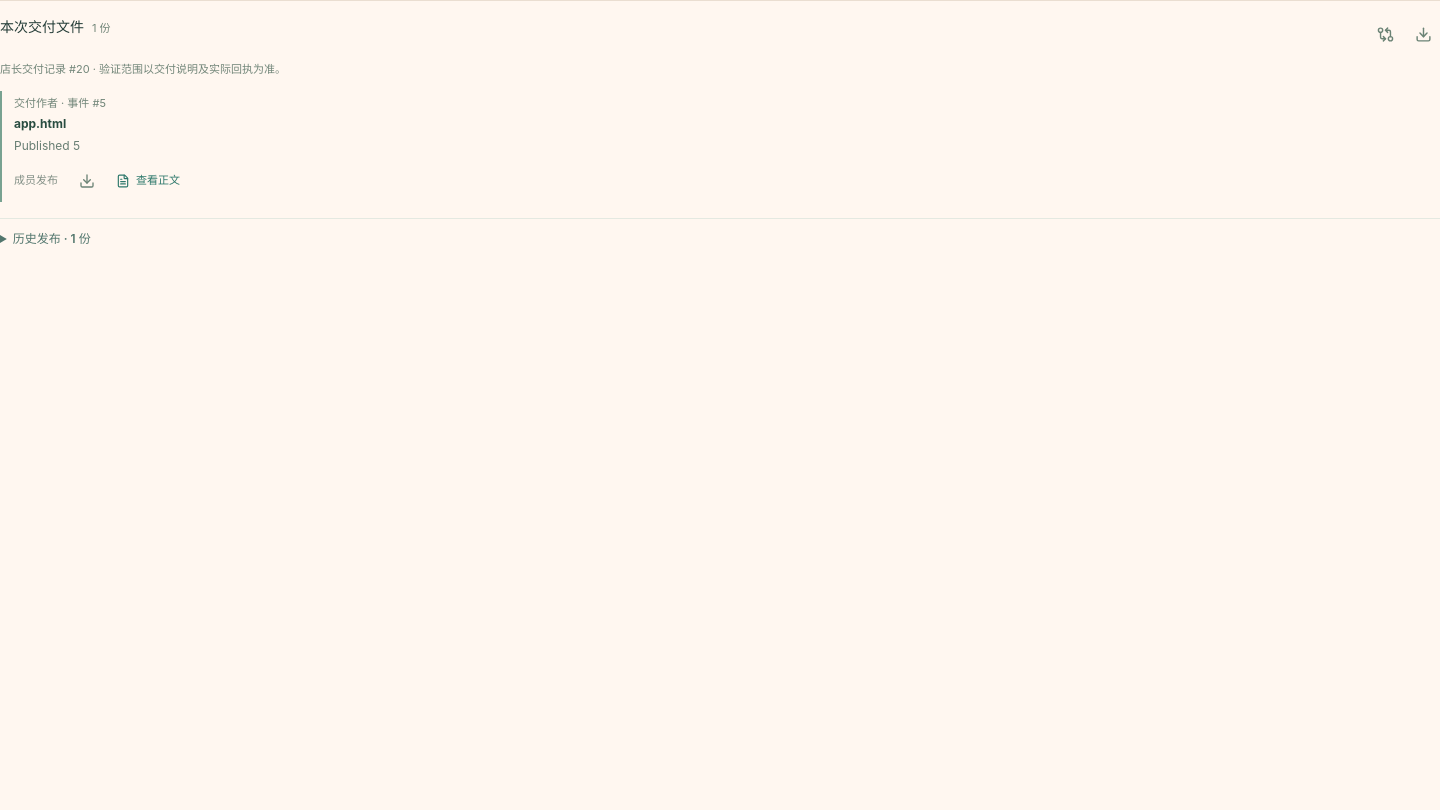
preserves raw text and displays line-ending notes: CRLF versus LF
Click the button named "对照已发布版本" at coordinates (1385, 34), box [1368,17,1402,51]
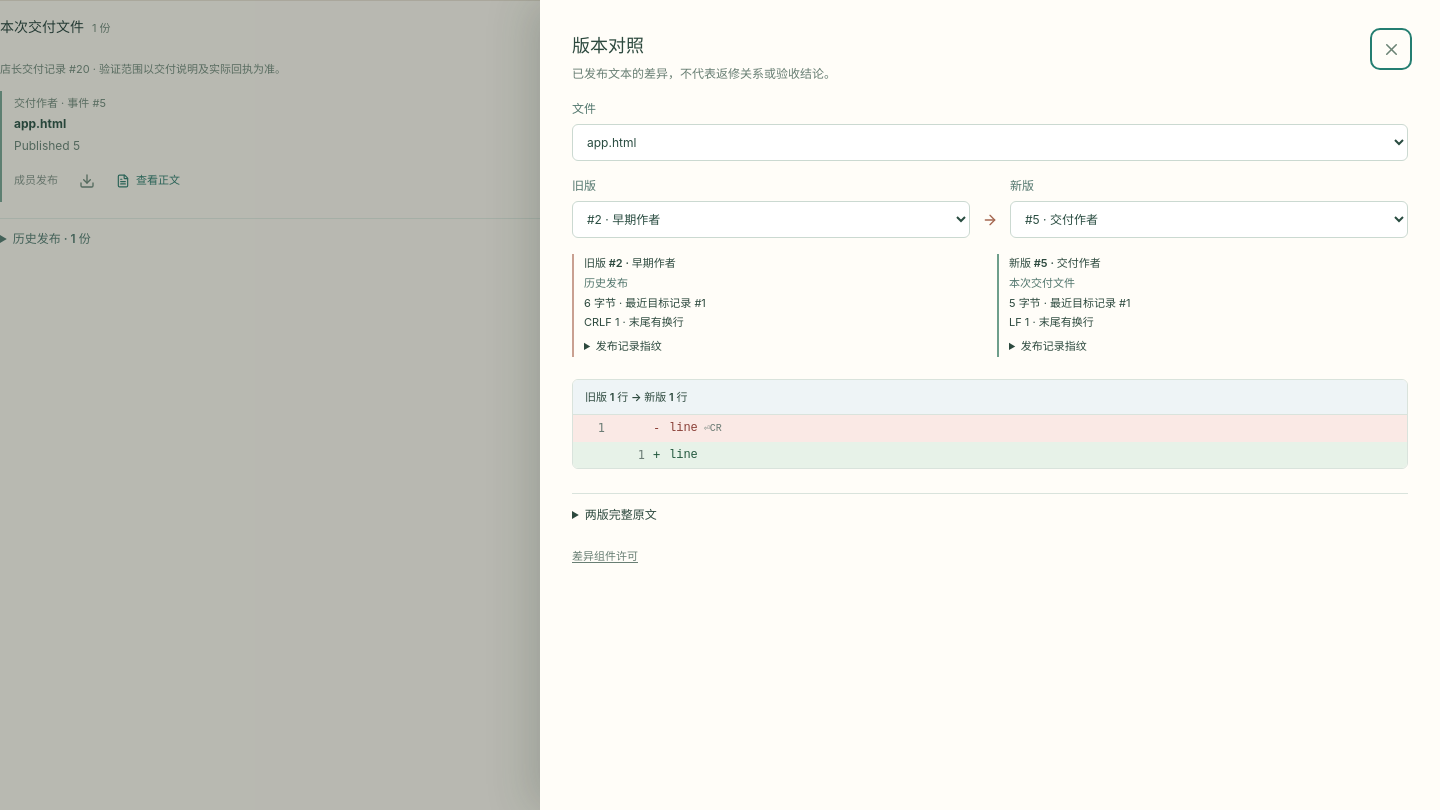
Now the text "CRLF 1 · 末尾有换行" is shown, box [584,315,684,329]
Now the text "LF 1 · 末尾有换行" is shown, box [1009,315,1094,329]
Now the text named "新增" is shown, box [653,448,660,462]
Click the heading "两版完整原文" at coordinates (621, 515), box [585,507,657,522]
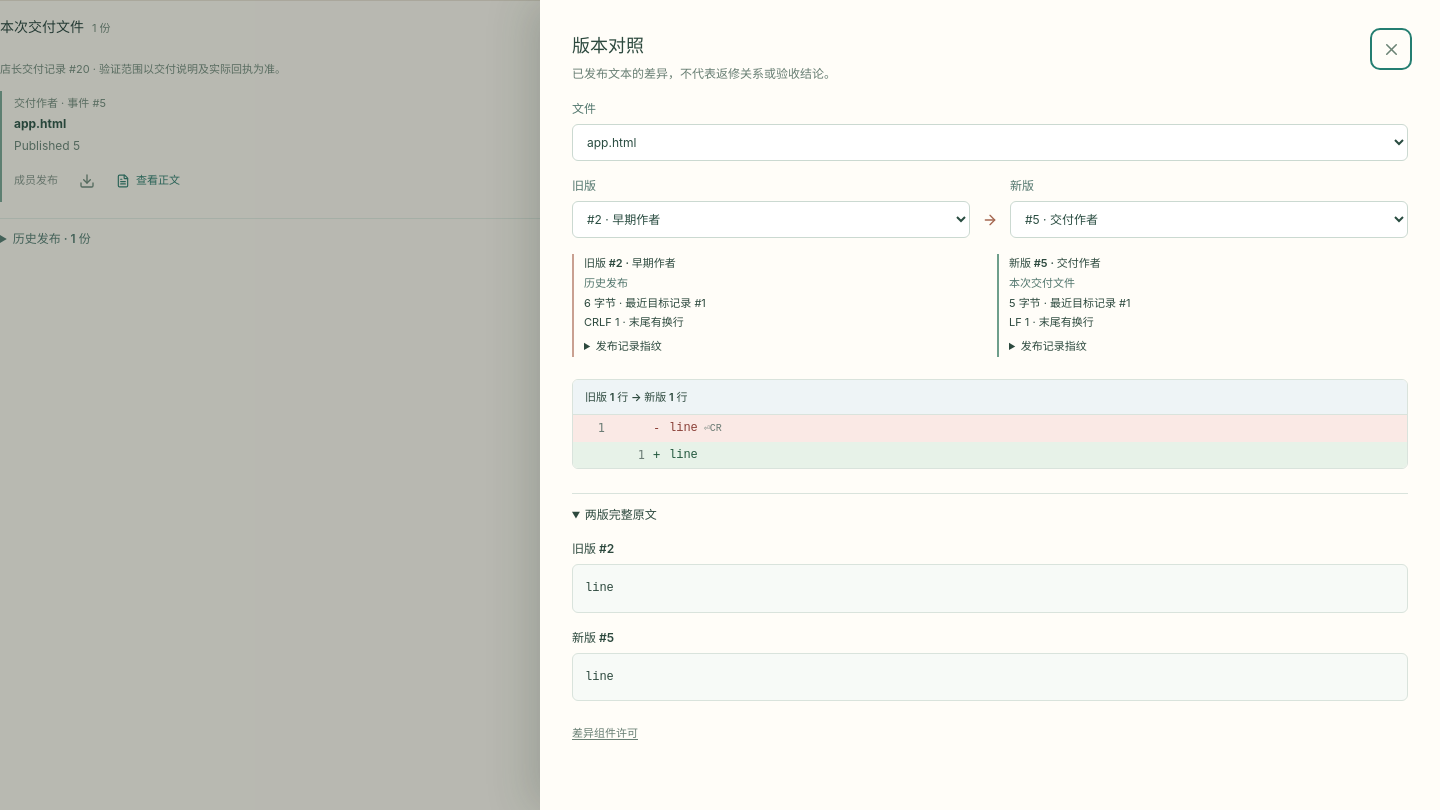
Now the element named "新版完整原文" reads "line", box [585,670,614,684]
